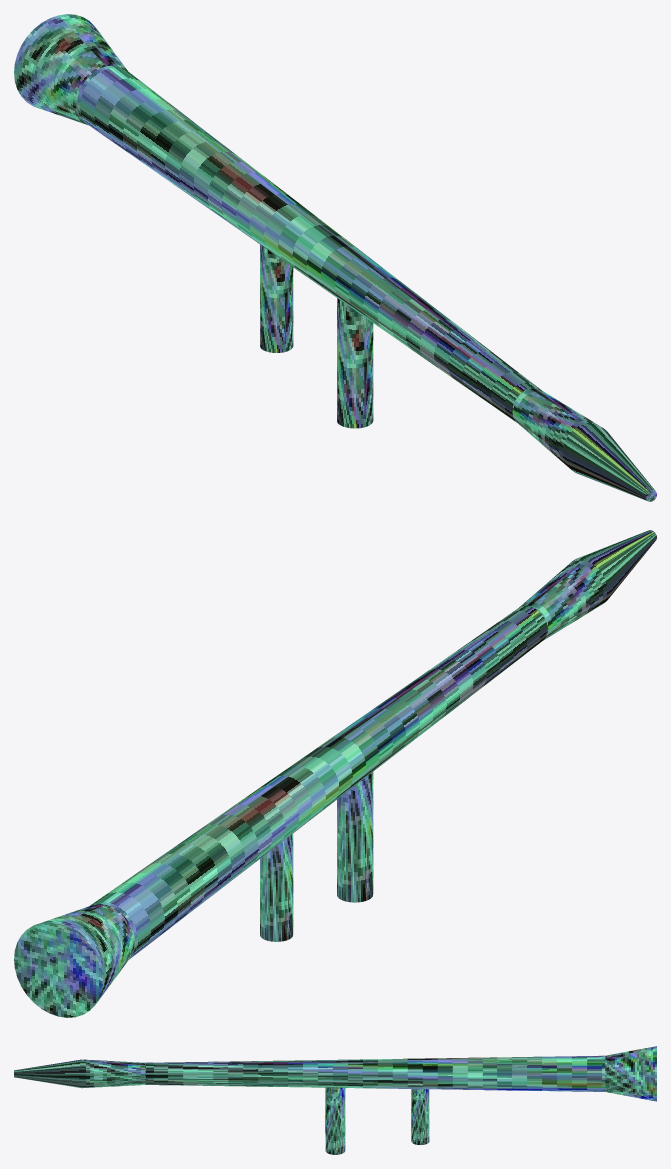
File: mimita-rpg-v3.glb
3 views of the same model, one above another, from view 1: azimuth 30°, elevation 25°; view 2: azimuth 150°, elevation 25°; view 3: azimuth 270°, elevation 25° (orthographic). The views are drawn at different scales.
Visible parts, largest first — view 1: Cylinder, Cylinder.002, Cylinder.004, Cylinder.001, Cylinder.003; view 2: Cylinder, Cylinder.002, Cylinder.004, Cylinder.001, Cylinder.003; view 3: Cylinder, Cylinder.004, Cylinder.002, Cylinder.001, Cylinder.003.
Boxes of the visible parts, left/top/right/bottom form: Cylinder: left=77, top=65, right=540, bottom=422; Cylinder.002: left=14, top=14, right=127, bottom=125; Cylinder.004: left=512, top=388, right=656, bottom=501; Cylinder.001: left=337, top=298, right=373, bottom=428; Cylinder.003: left=260, top=244, right=293, bottom=352; Cylinder: left=90, top=606, right=547, bottom=959; Cylinder.002: left=14, top=904, right=134, bottom=1017; Cylinder.004: left=519, top=530, right=656, bottom=640; Cylinder.001: left=337, top=772, right=373, bottom=902; Cylinder.003: left=260, top=833, right=293, bottom=941; Cylinder: left=145, top=1055, right=605, bottom=1091; Cylinder.004: left=14, top=1059, right=145, bottom=1088; Cylinder.002: left=605, top=1046, right=656, bottom=1101; Cylinder.001: left=325, top=1087, right=345, bottom=1154; Cylinder.003: left=411, top=1089, right=429, bottom=1144.
Size of the model in its own units: 0.2995 by 0.6062 by 3.46.
1 material, 1 textured.
